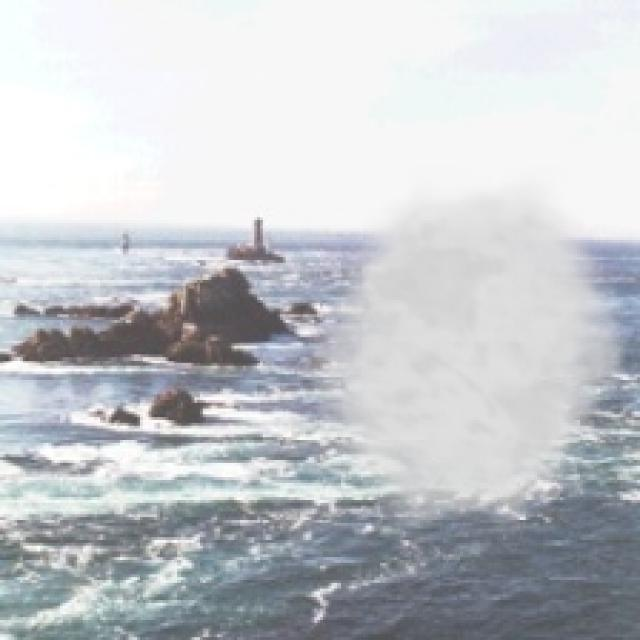Smoke: (294, 166, 637, 534)
